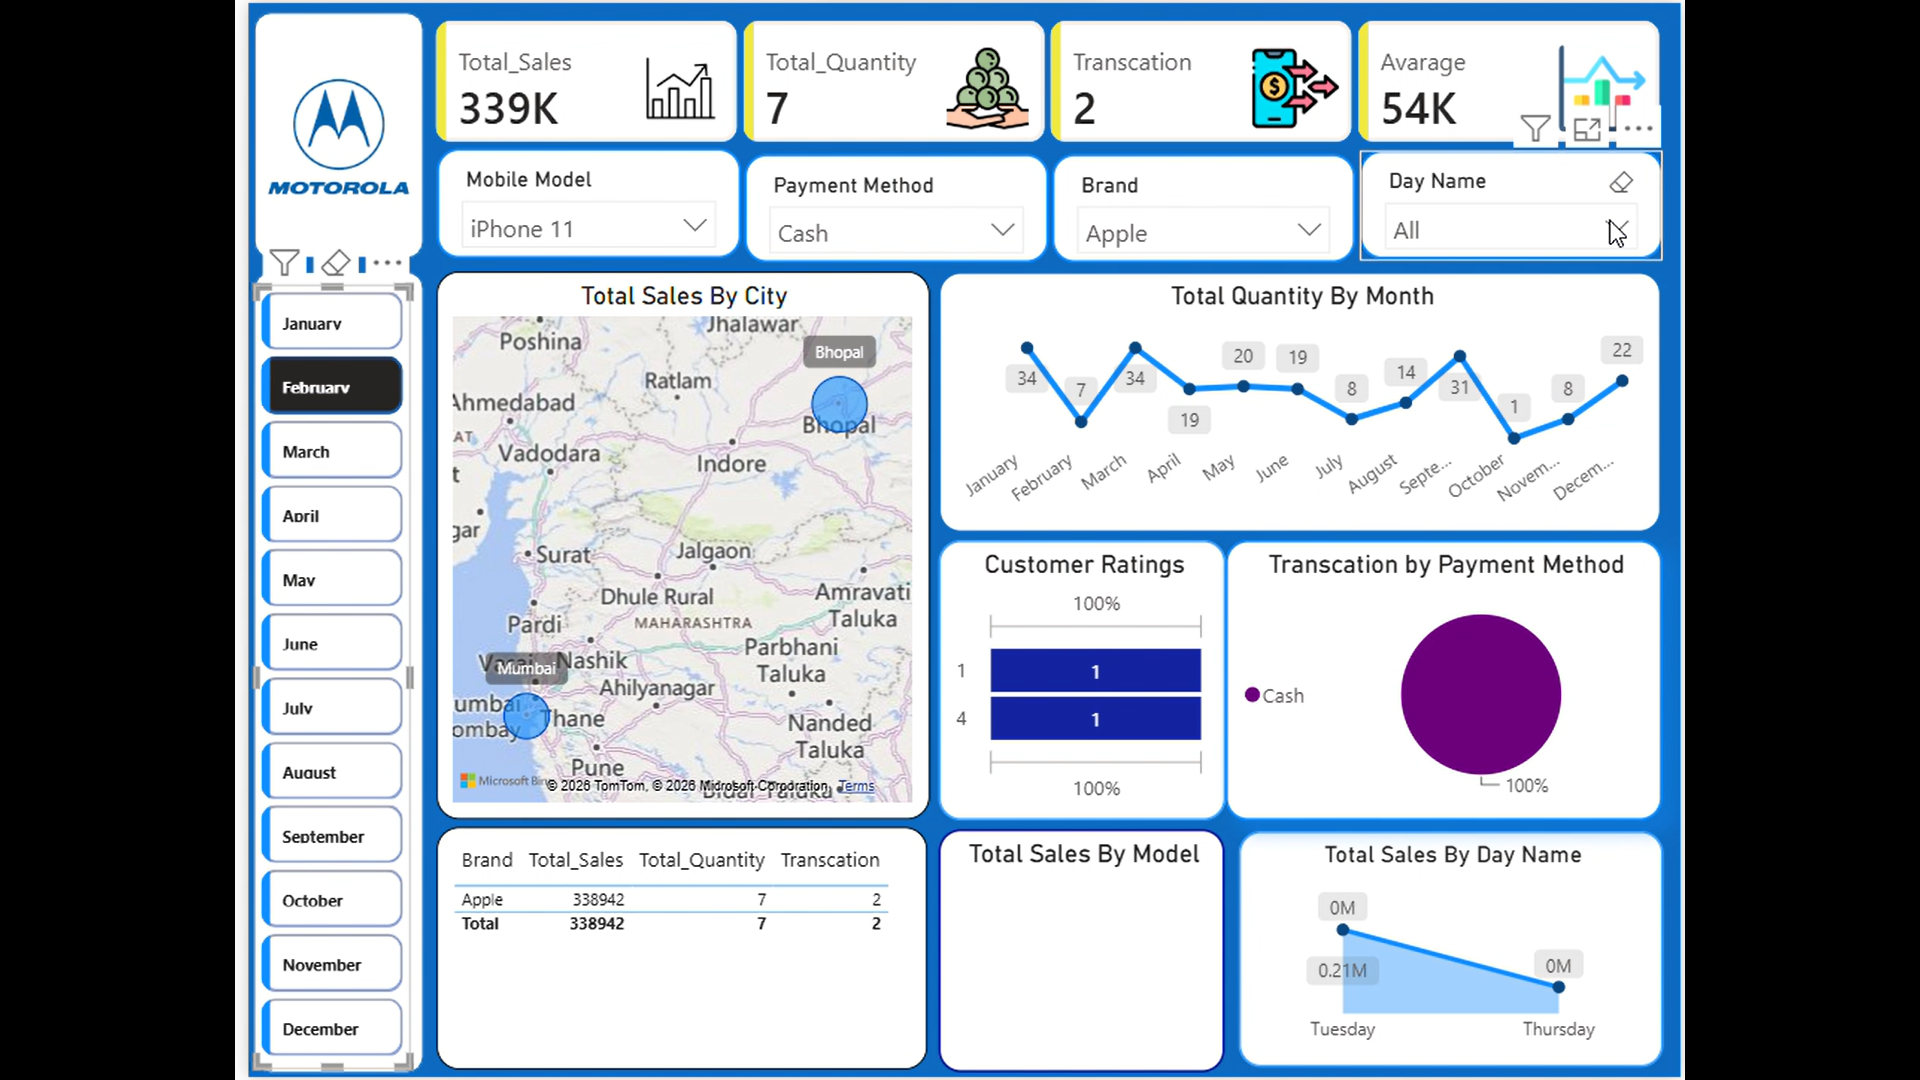

What the dashboard file says about the page in this screenshot:
{"tool":"powerbi","page":{"name":"Page 1","canvas":[960,720],"ordinal":0},"visuals":[{"type":"shape","box":[3.8,6.2,113.8,165],"z":0},{"type":"image","box":[13,13,96,153],"z":1000},{"type":"shape","box":[3.8,180,113.8,537.5],"z":2000},{"type":"advancedSlicerVisual","fields":{"Values":["Custom_calender.Date.Variation.Date Hierarchy.Month"]},"box":[3.6,179.8,106.2,540.5],"z":3000},{"type":"cardVisual","fields":{"Data":["Sales_data.Total_Sales","Sales_data.Total_Quantity","Sales_data.Transcation","Sales_data.Avarage"]},"box":[108.8,0,851.2,112.5],"z":4000},{"type":"slicer","fields":{"Values":["Sales_data.Mobile Model"]},"box":[126.2,97.5,203.8,73.8],"z":5000},{"type":"slicer","fields":{"Values":["Sales_data.Payment Method"]},"box":[332.5,101.2,203.8,72.5],"z":6000},{"type":"slicer","fields":{"Values":["Sales_data.Brand"]},"box":[539,101,203,73],"z":7000},{"type":"slicer","fields":{"Values":["Custom_calender.Day Name"]},"box":[745,99,203,73],"z":8000},{"type":"map","title":"Total Sales By City","fields":{"Category":["Sales_data.City"],"Size":["Sales_data.Total_Sales"]},"box":[126.2,180,330,367.5],"z":9000},{"type":"tableEx","fields":{"Values":["Sales_data.Brand","Sales_data.Total_Sales","Sales_data.Total_Quantity","Sales_data.Transcation"]},"box":[126.2,552.5,328.8,162.5],"z":10000},{"type":"lineChart","title":"Total Quantity By Month","fields":{"Y":["Sales_data.Total_Quantity"],"Category":["Custom_calender.Date.Variation.Date Hierarchy.Month","Custom_calender.Date.Variation.Date Hierarchy.Day"]},"box":[462.5,180,485,175],"z":11000},{"type":"funnel","title":"Customer Ratings","fields":{"Category":["Sales_data.Customer Ratings"],"Y":["CountNonNull(Sales_data.Brand)"]},"box":[462.3,360,193.1,187.7],"z":12000},{"type":"stackedAreaChart","title":"Total Sales By Day Name","fields":{"Y":["Sales_data.Total_Sales"],"Category":["Custom_calender.Day Name"]},"box":[663.8,554.6,284.6,158.5],"z":13000},{"type":"hundredPercentStackedBarChart","title":"Total Sales By Model","fields":{"Category":["Sales_data.Mobile Model"],"Y":["Sales_data.Total_Sales"]},"box":[462.3,553.8,192.3,163.1],"z":14000},{"type":"pieChart","fields":{"Y":["Sales_data.Transcation"],"Category":["Sales_data.Payment Method"]},"box":[663.5,359.5,284.7,188.2],"z":15000}]}

Visuals, with their boxes in screenshot pixels (x1, y1, x2, y2):
shape: [251, 14, 419, 258]
image: [264, 24, 406, 251]
shape: [251, 271, 419, 1066]
advancedSlicerVisual - Custom_calender.Date.Variation.Date Hierarchy.Month: [250, 271, 407, 1071]
cardVisual - Sales_data.Total_Sales x Sales_data.Total_Quantity: [406, 5, 1665, 171]
slicer - Sales_data.Mobile Model: [432, 149, 733, 258]
slicer - Sales_data.Payment Method: [737, 155, 1038, 262]
slicer - Sales_data.Brand: [1042, 154, 1343, 262]
slicer - Custom_calender.Day Name: [1347, 151, 1647, 259]
"Total Sales By City" map: [432, 271, 920, 815]
tableEx - Sales_data.Brand x Sales_data.Total_Sales: [432, 822, 918, 1063]
"Total Quantity By Month" lineChart: [929, 271, 1647, 530]
"Customer Ratings" funnel: [929, 538, 1215, 815]
"Total Sales By Day Name" stackedAreaChart: [1227, 825, 1648, 1060]
"Total Sales By Model" hundredPercentStackedBarChart: [929, 824, 1213, 1065]
pieChart - Sales_data.Transcation x Sales_data.Payment Method: [1226, 537, 1648, 815]
